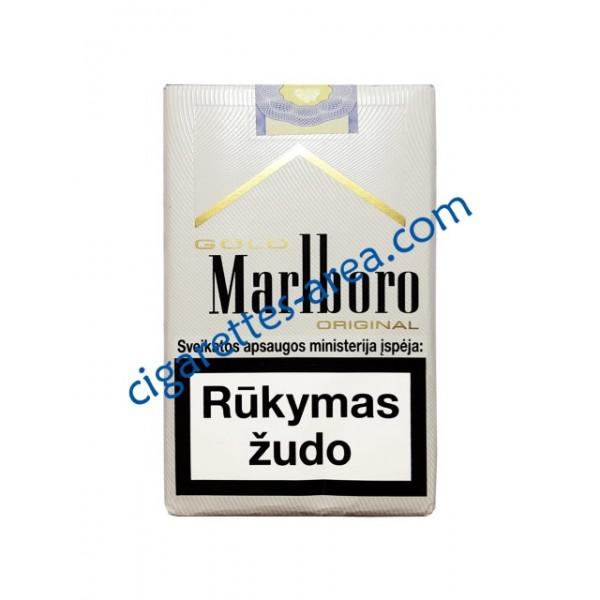marlboro_gold: (167, 91, 432, 519)
